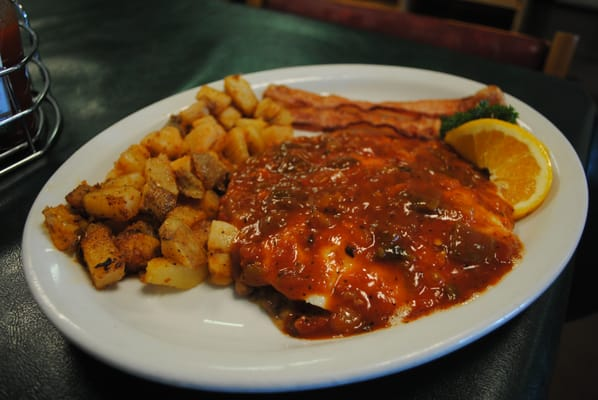taco: (444, 117, 554, 220)
